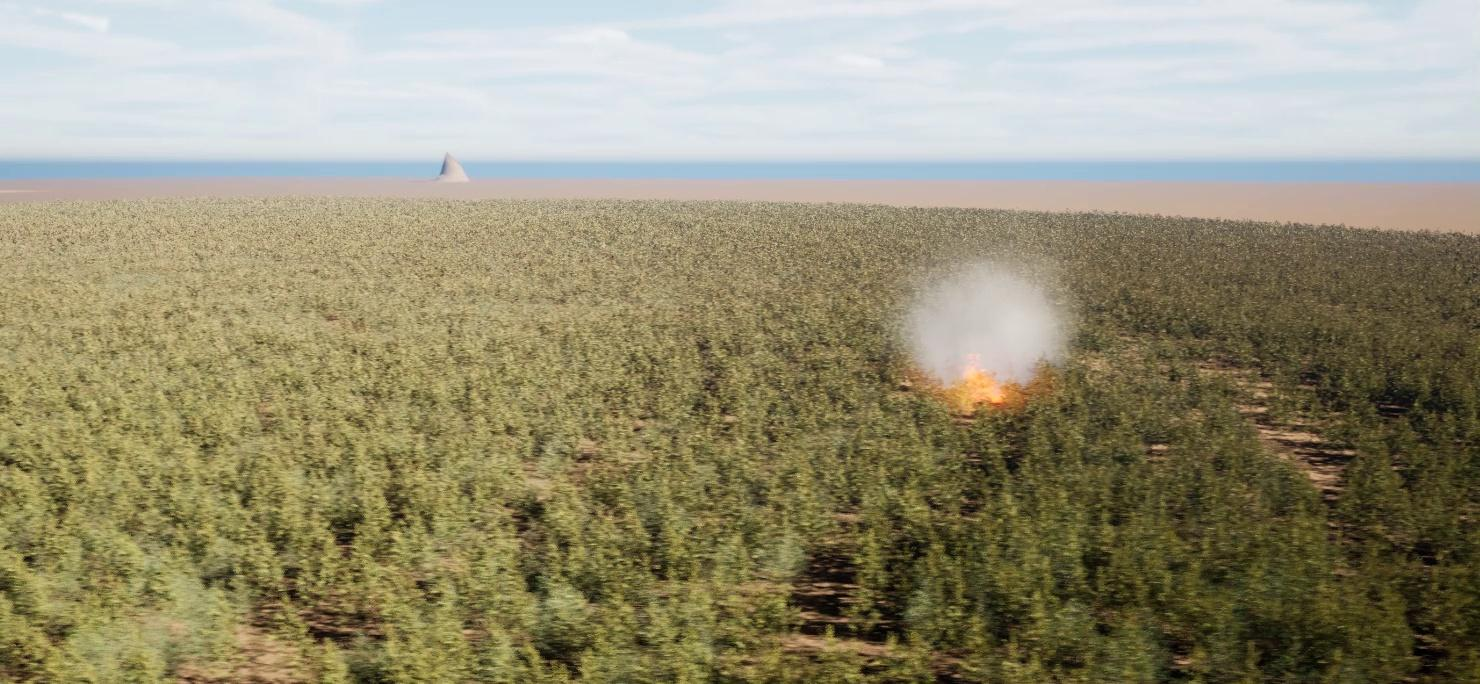fire: (962, 353, 1003, 403)
smoke: (895, 252, 1072, 393)
